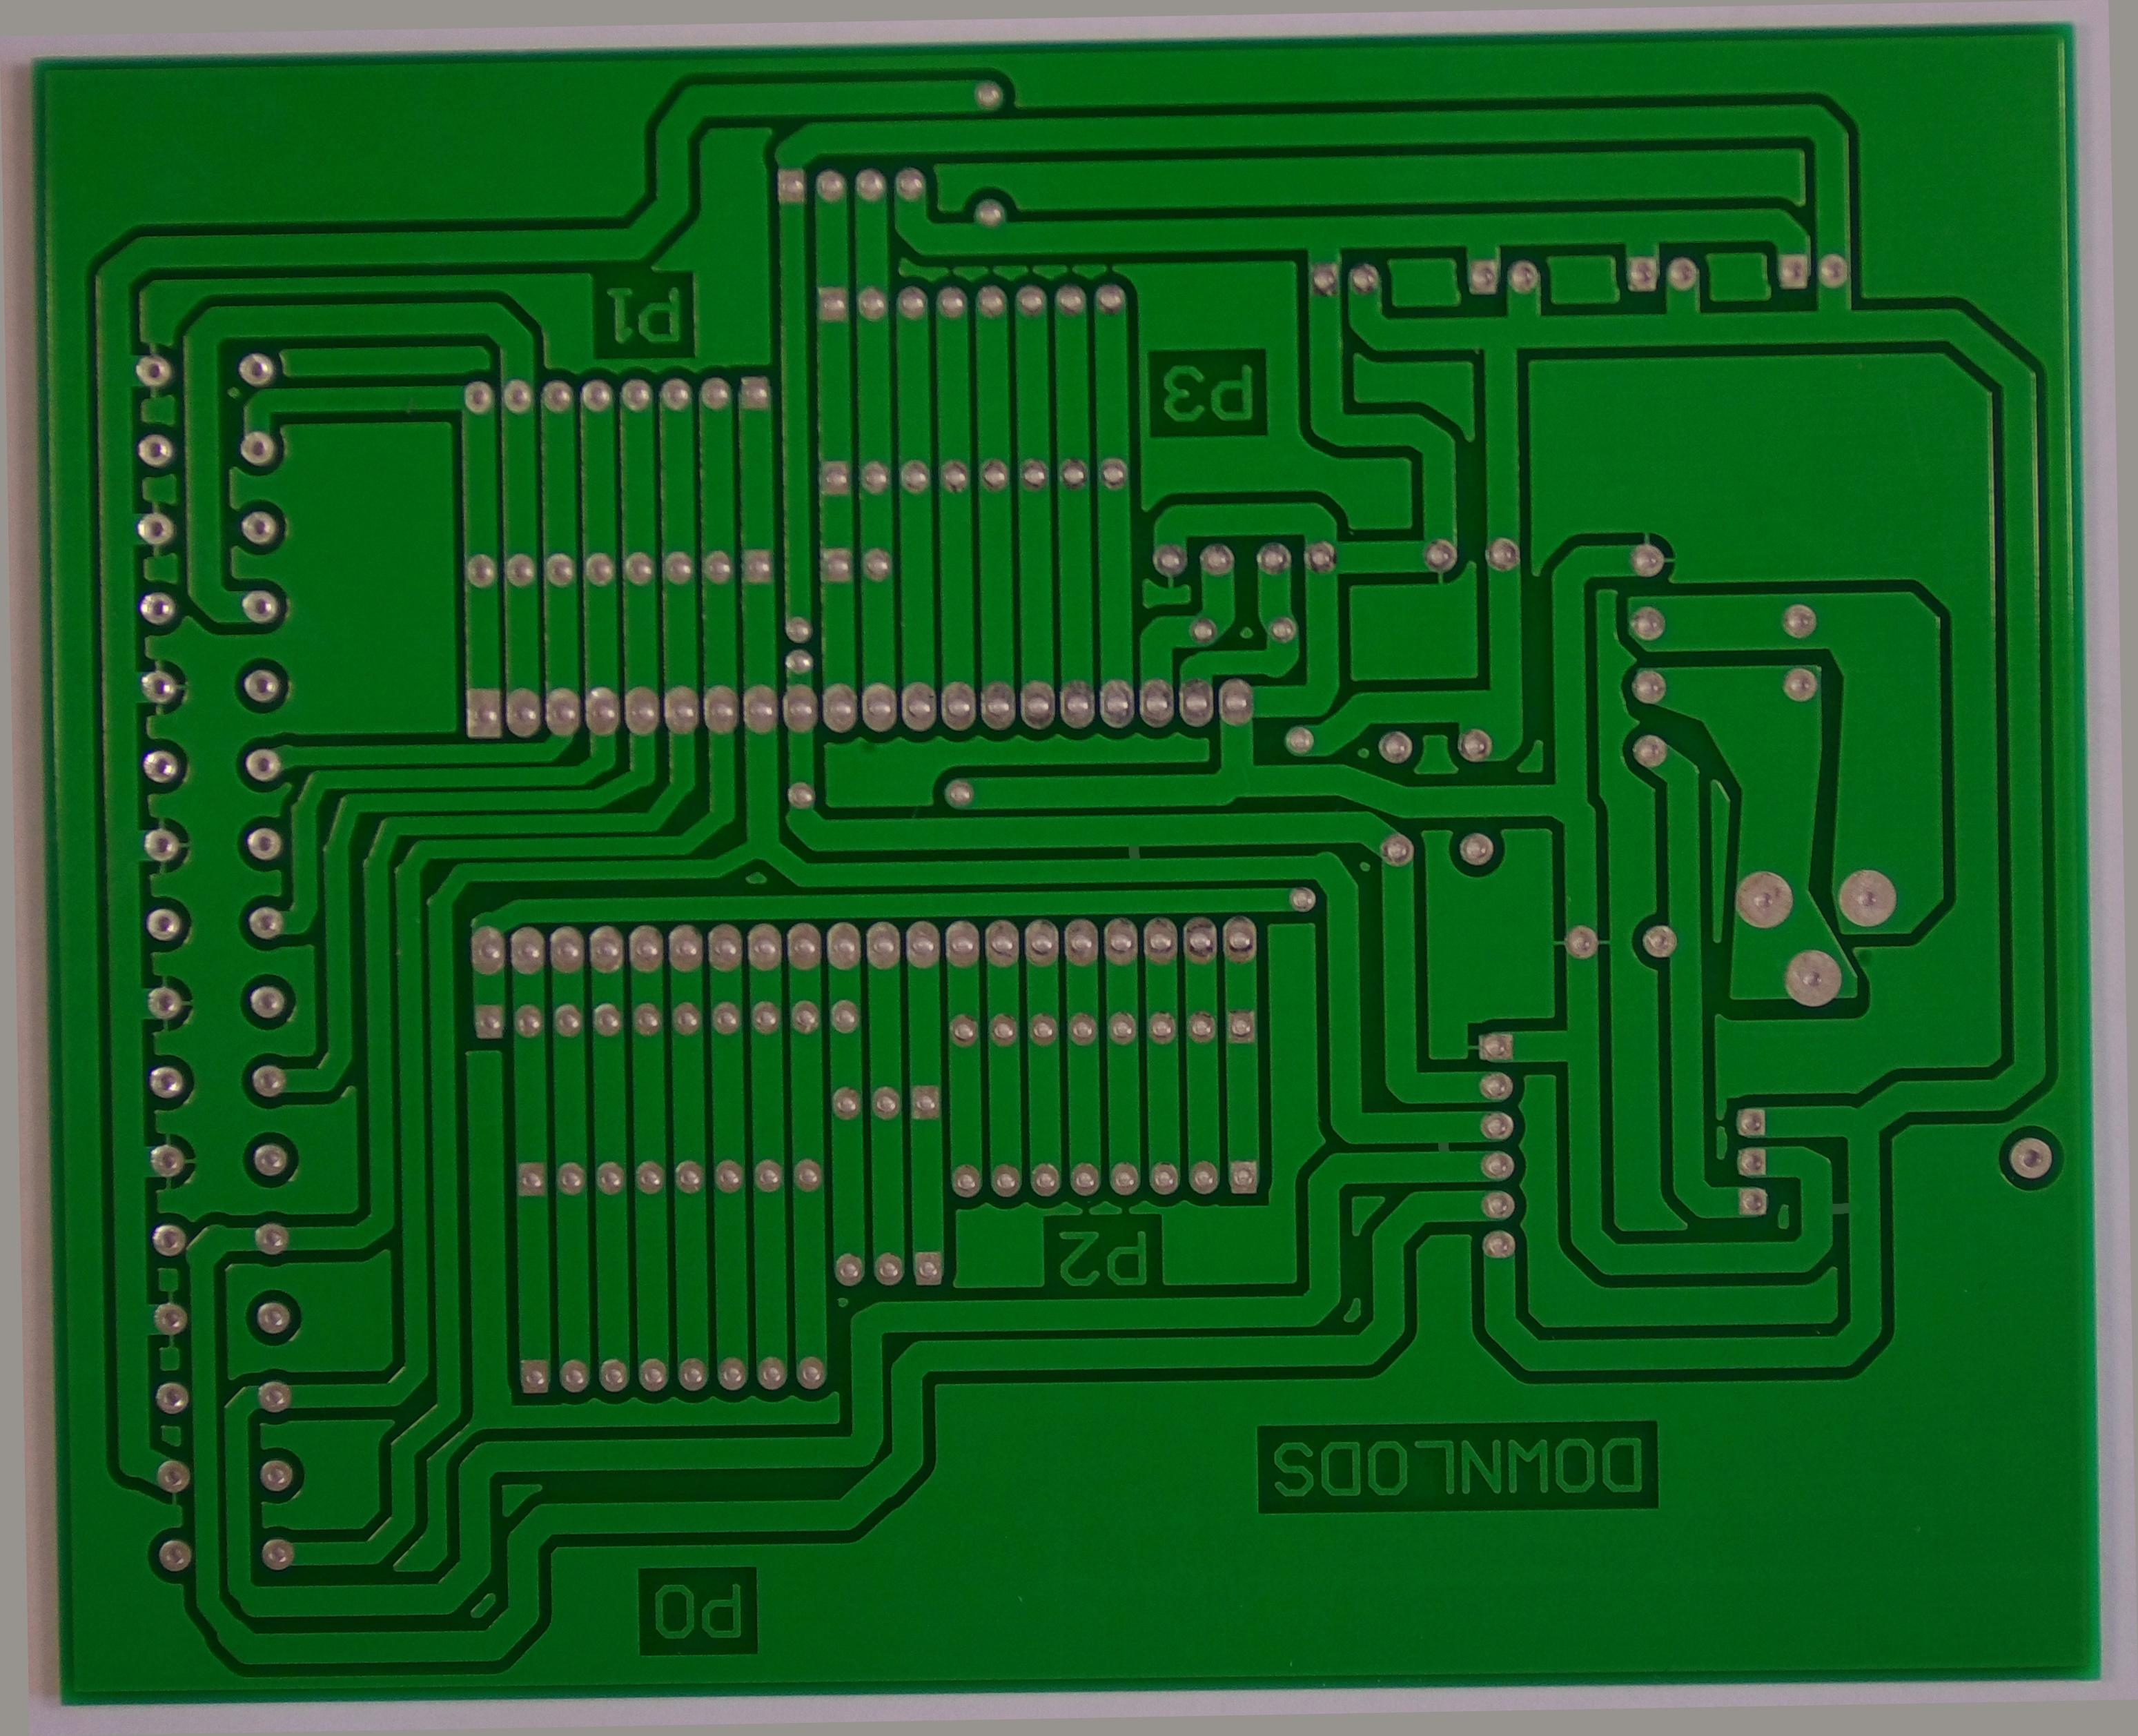short: (1798, 1185, 1878, 1270), (1104, 817, 1173, 887), (1414, 1125, 1476, 1194)
